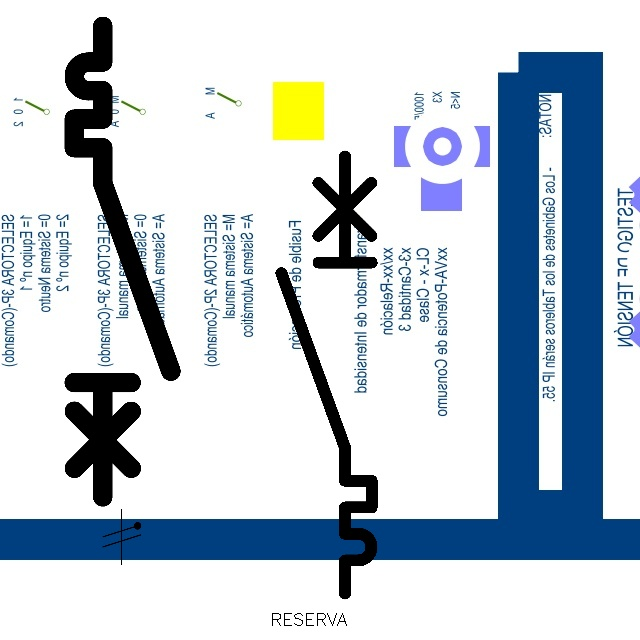interruptor_termomagnetico: (62, 14, 183, 508), (270, 145, 383, 605)
